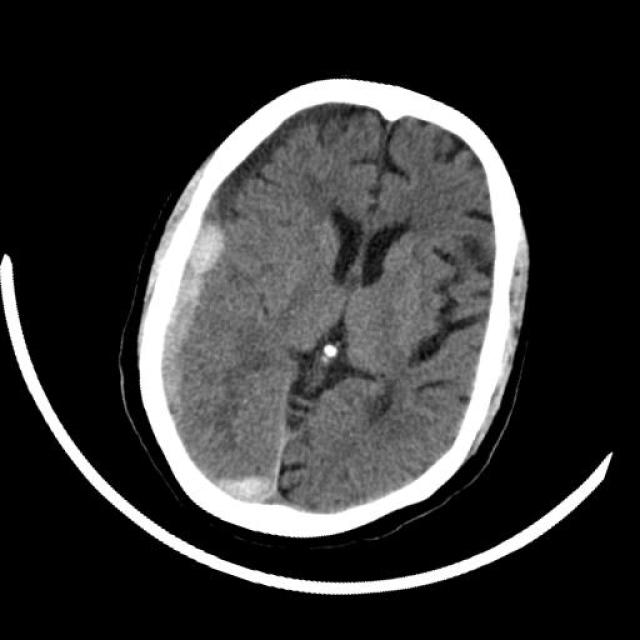Subdural: (82, 197, 262, 468), (180, 450, 284, 532)
